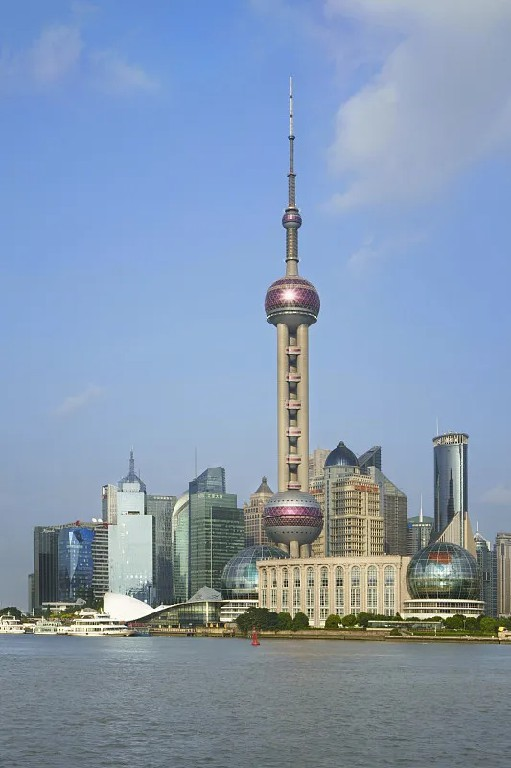Oriental: (263, 76, 324, 556)
